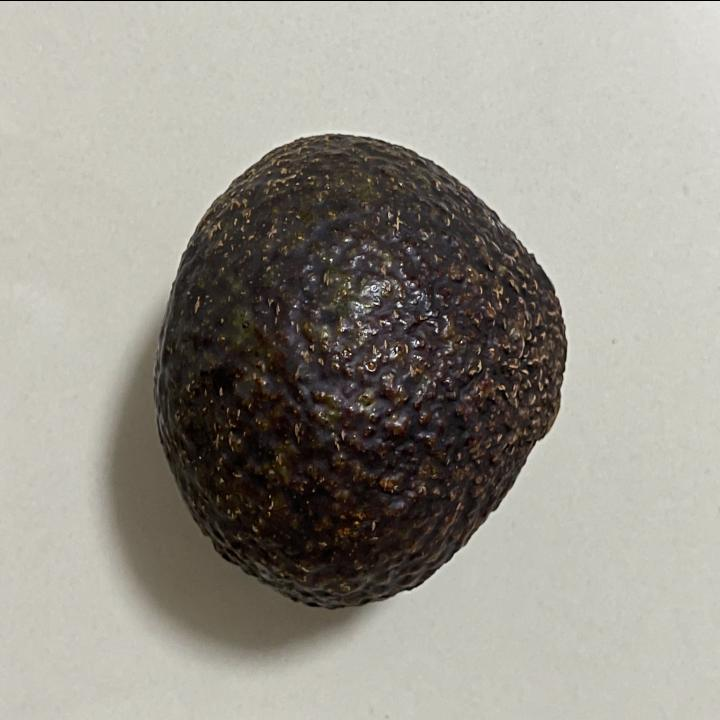Level2: (146, 127, 576, 618)
